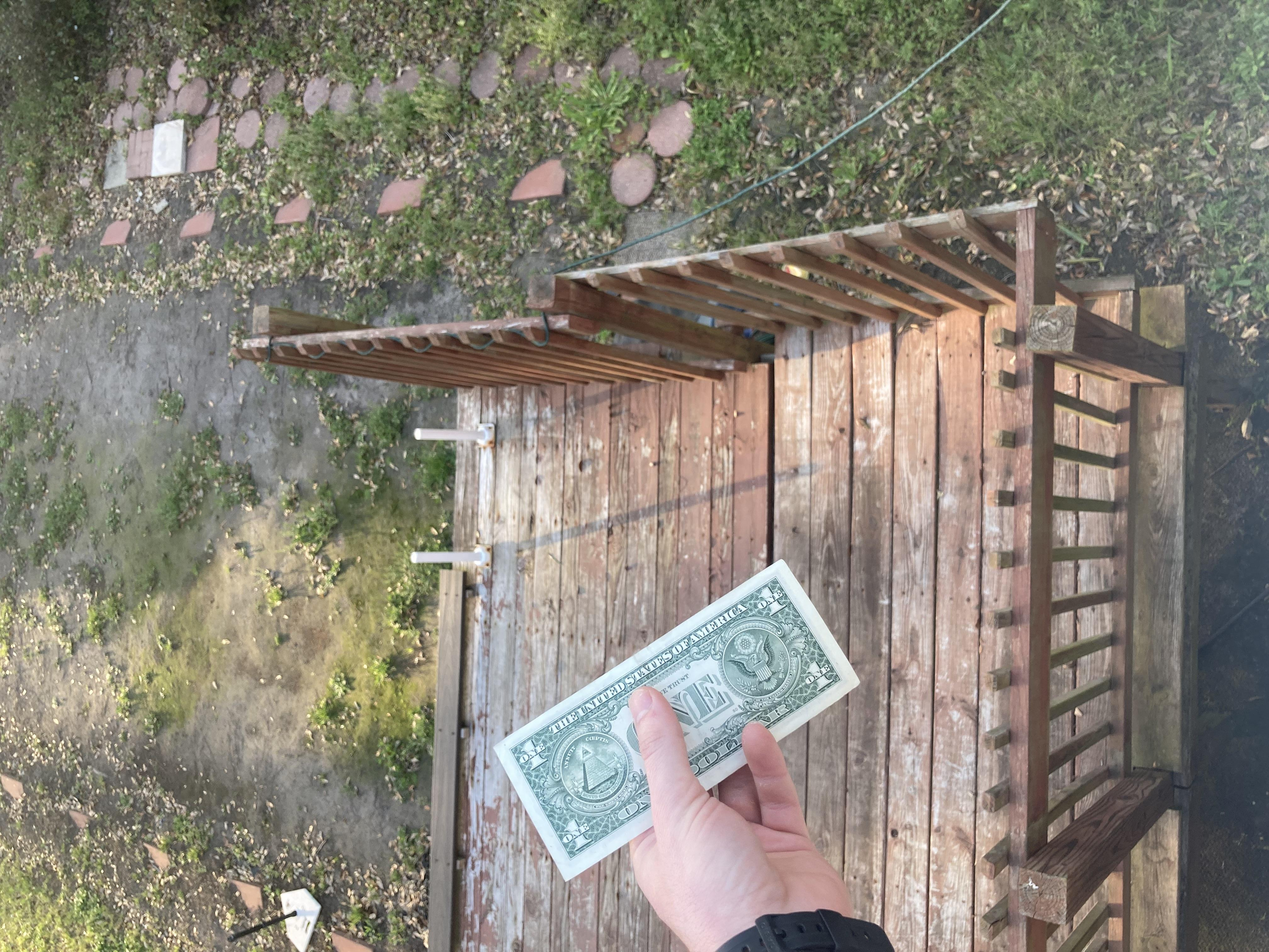one-back: (92, 370, 526, 648)
